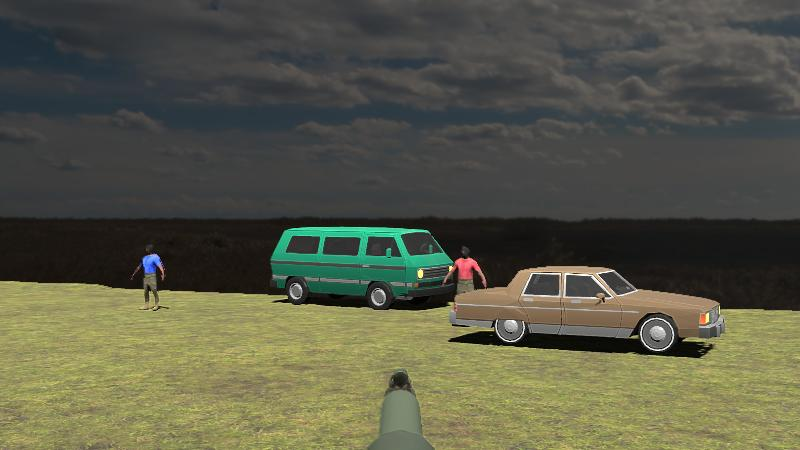Human: (445, 245, 487, 322), (131, 242, 165, 311)
car: (449, 265, 725, 353), (270, 226, 456, 311)
